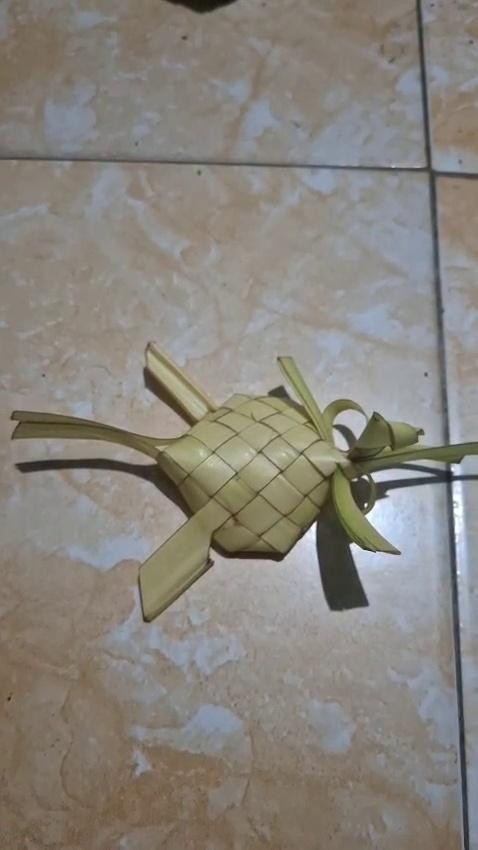Tipat Dampulan: (11, 342, 475, 627)
